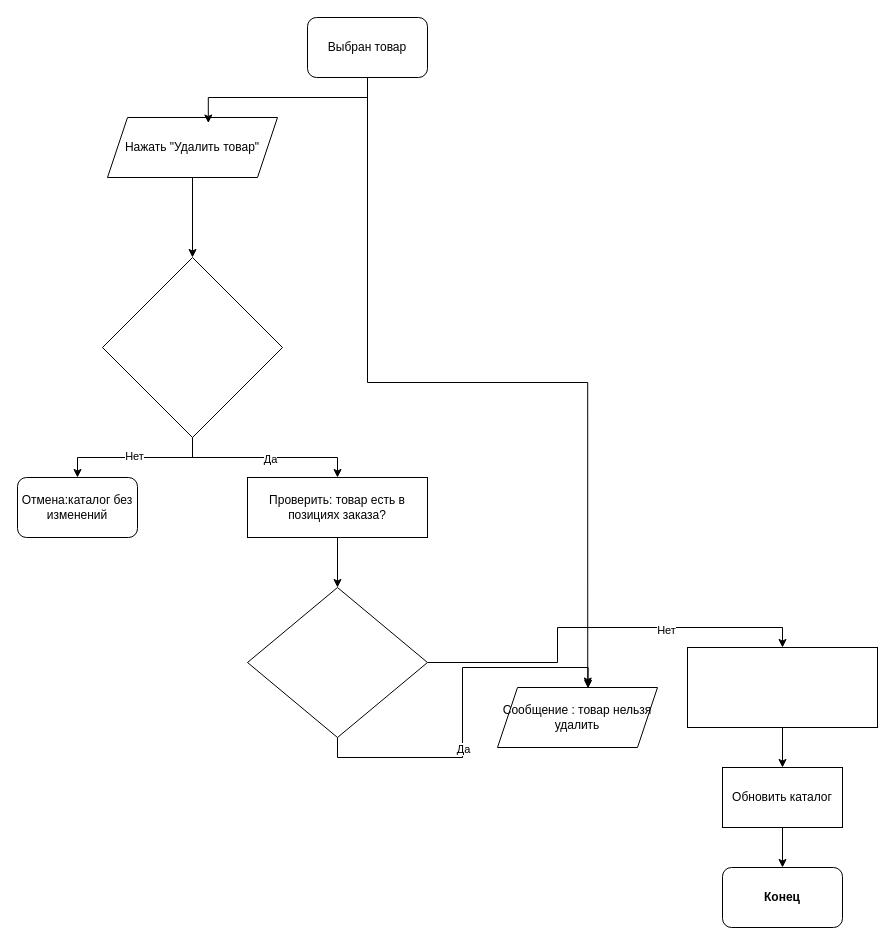
Some shapes in this 895 by 945 pixel diagram are drawn without their labels. The box of each missing label's shape, as (x1, y1, x2, y2) in pixels:
Товар есть в заказе?: (246, 586, 428, 738)
Удаление потверждено?: (102, 256, 282, 438)
Удалить товар и связанное фото: (686, 646, 878, 728)
